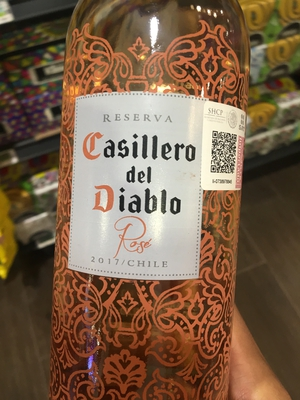casillero del diablo rose: (45, 7, 249, 400)
